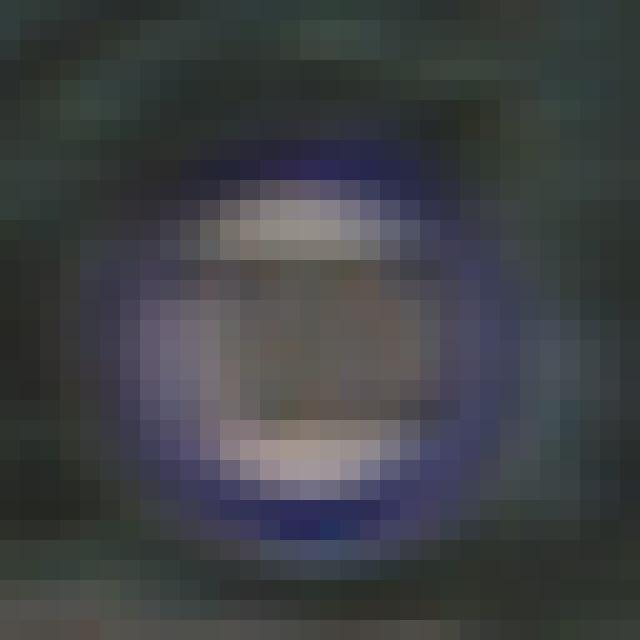SPEED LIMIT 100: (76, 145, 526, 563)
